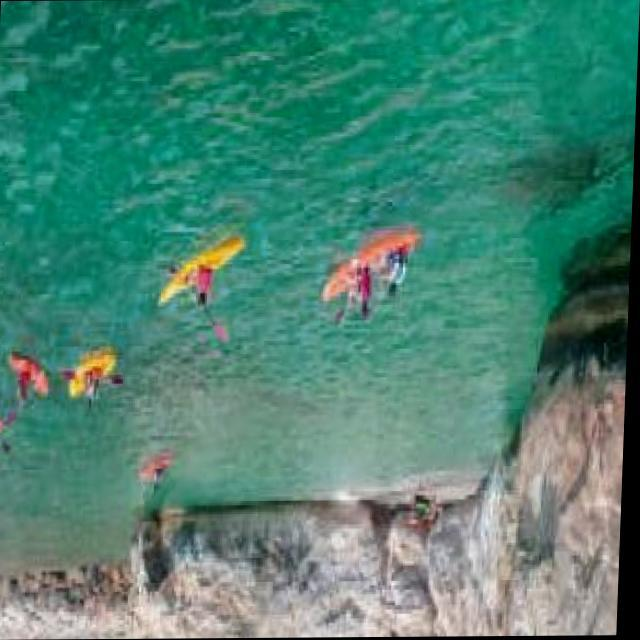kayak: (156, 227, 245, 313), (64, 342, 126, 403)
